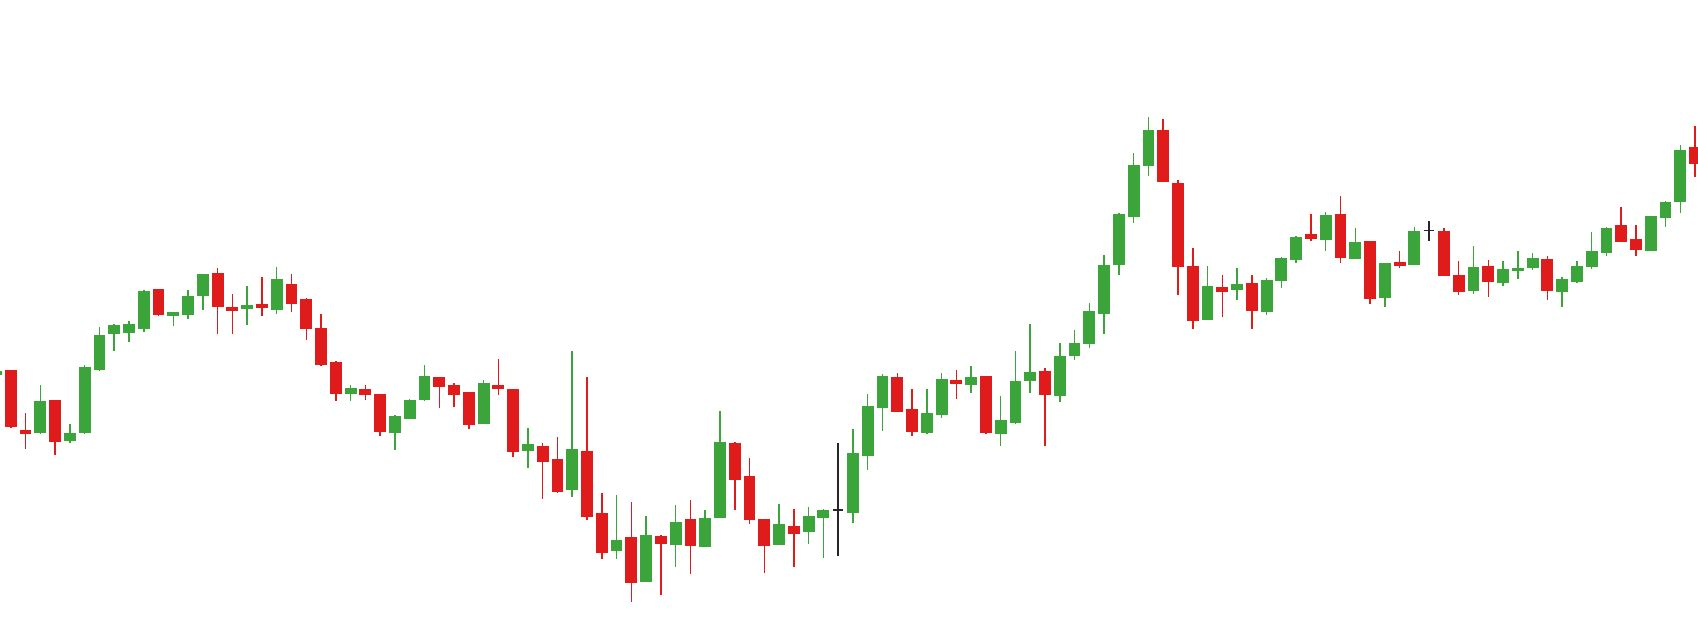buy: (905, 383, 1009, 454)
